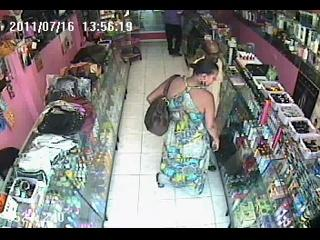Normal: (146, 59, 221, 195), (144, 74, 182, 136), (163, 10, 185, 56)
